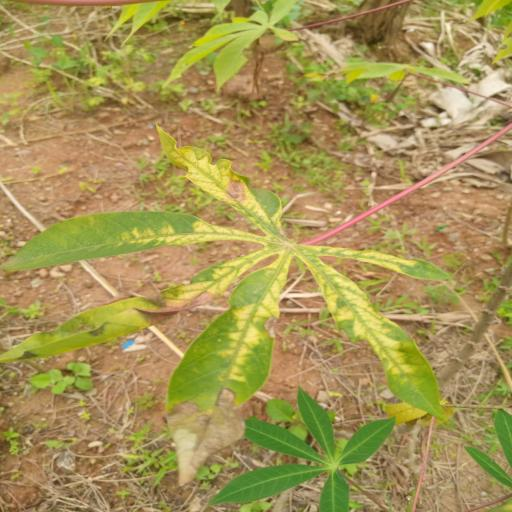Cassava_Brown_Leaf_Spot: (5, 129, 482, 487)
